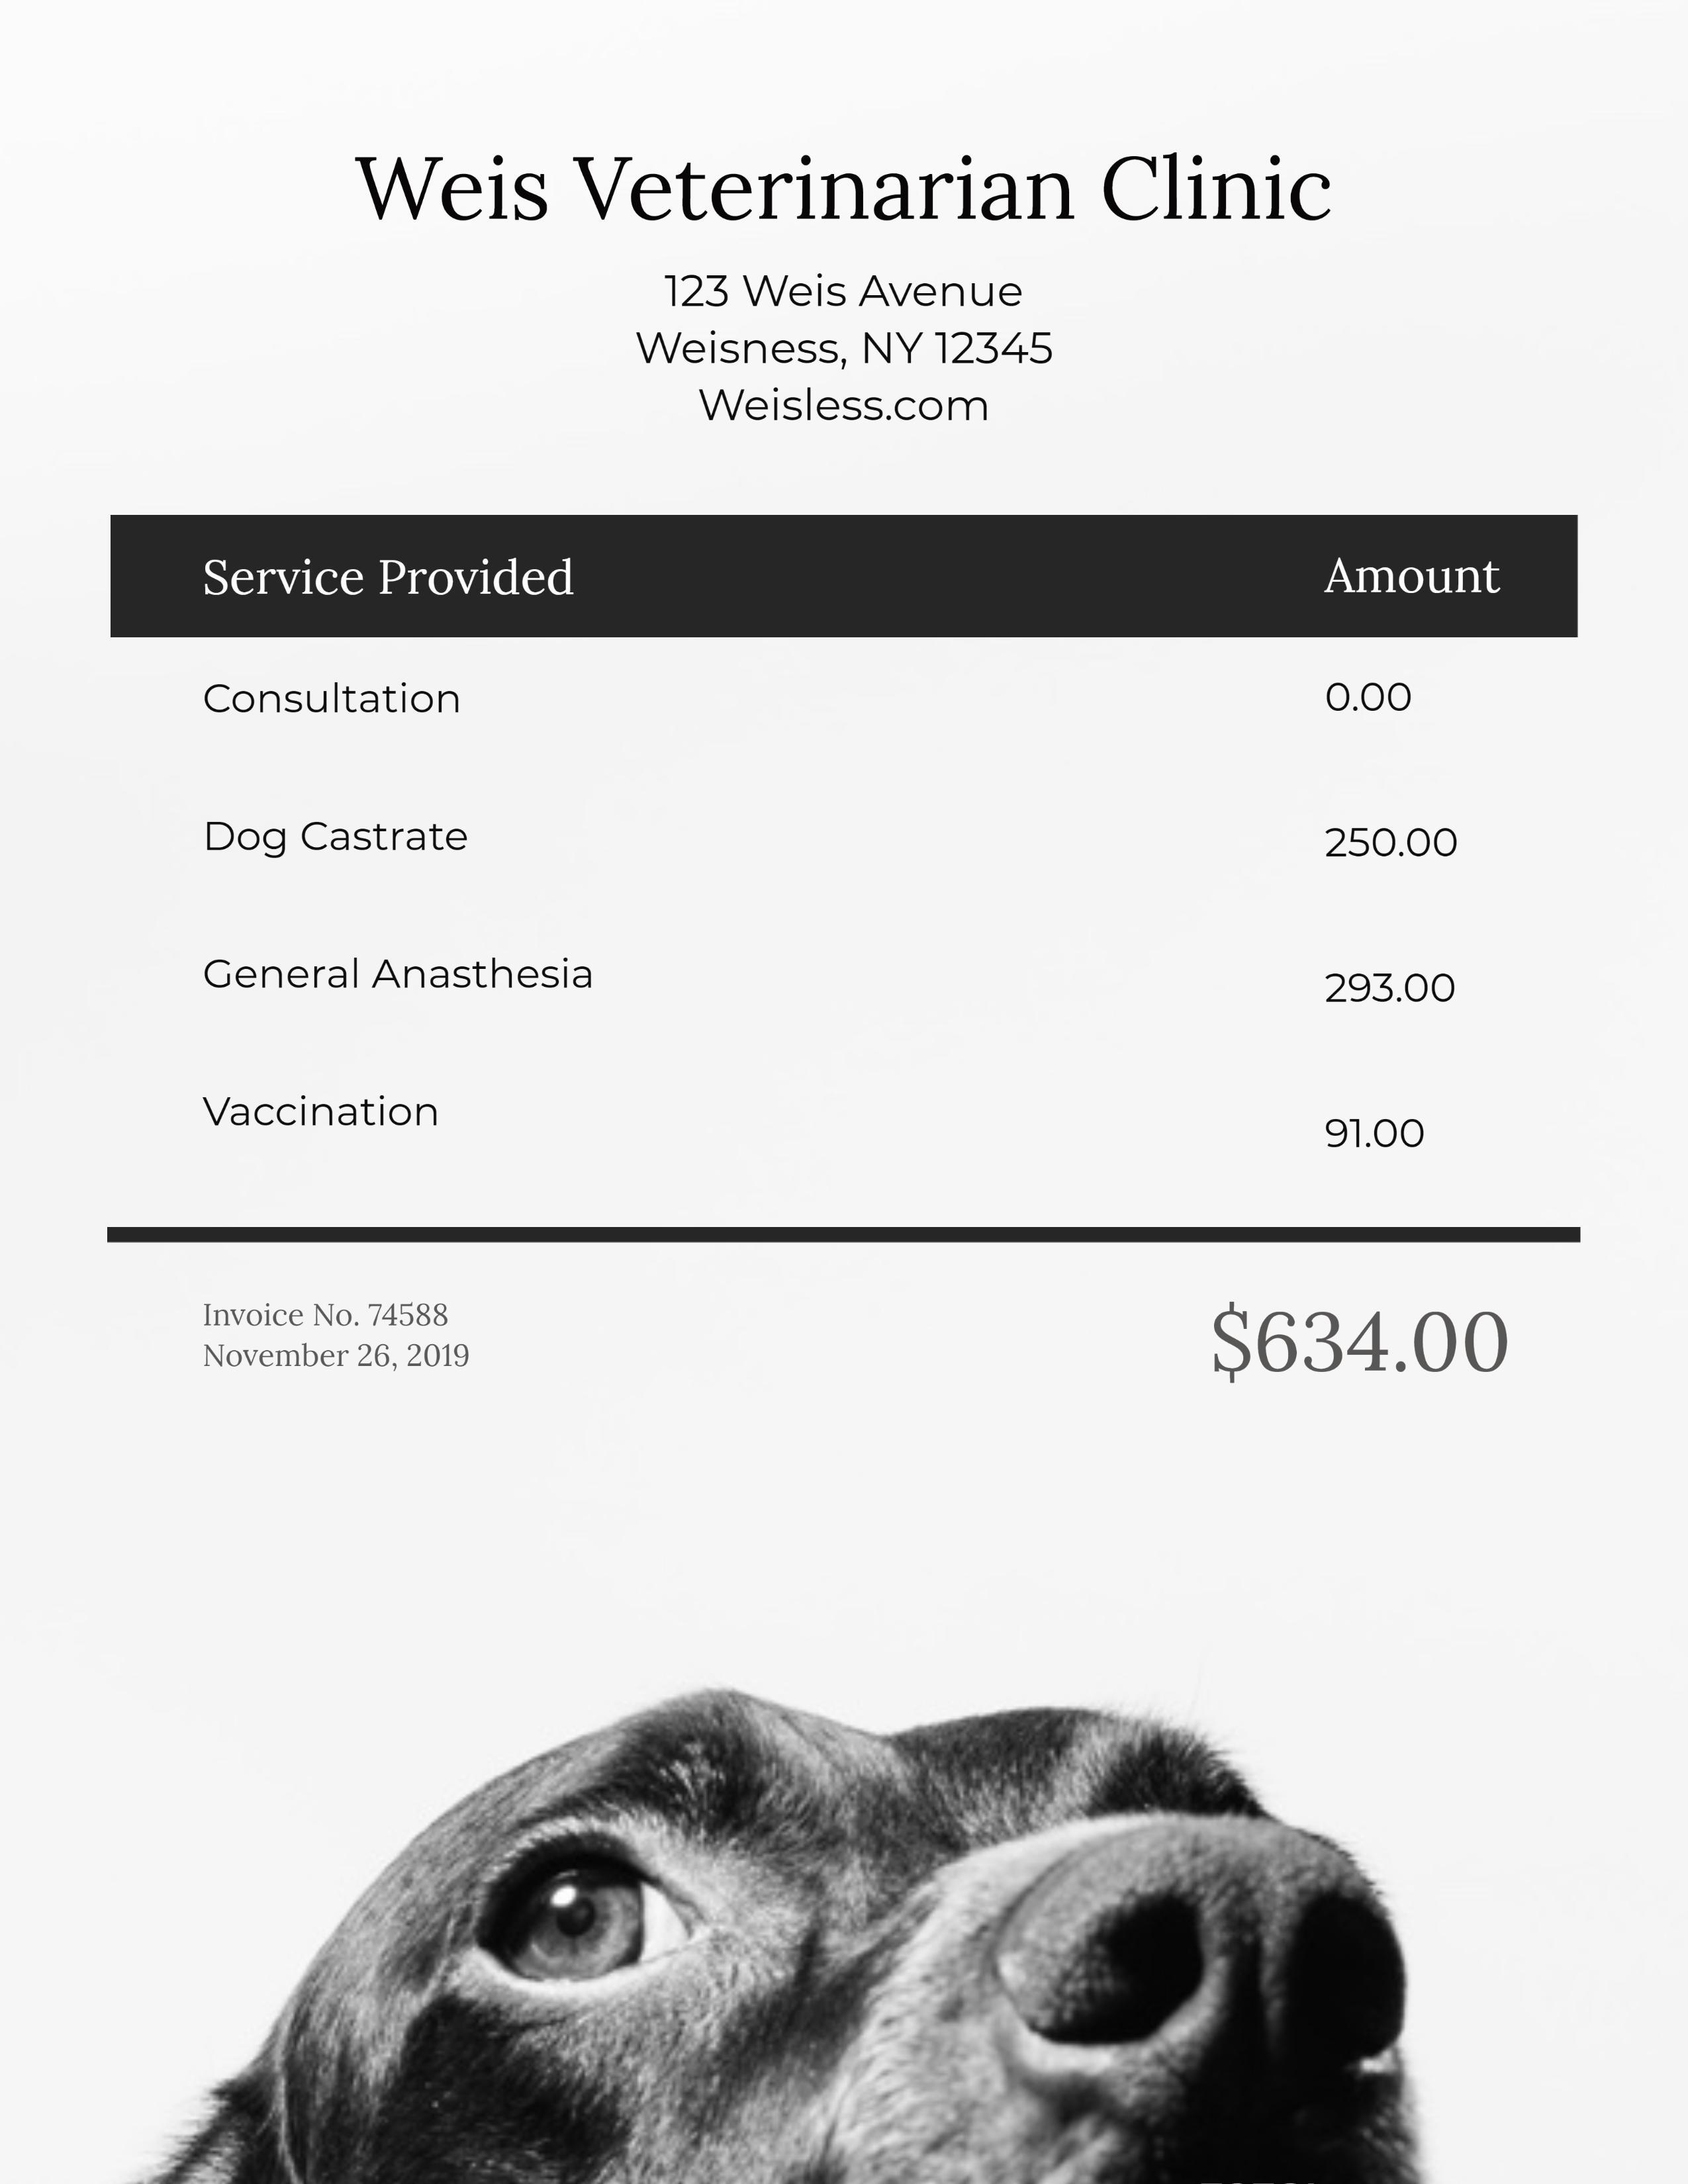ROI: (191, 548, 1518, 1161), (340, 136, 1362, 425), (1179, 1276, 1523, 1397), (186, 1291, 493, 1377)
